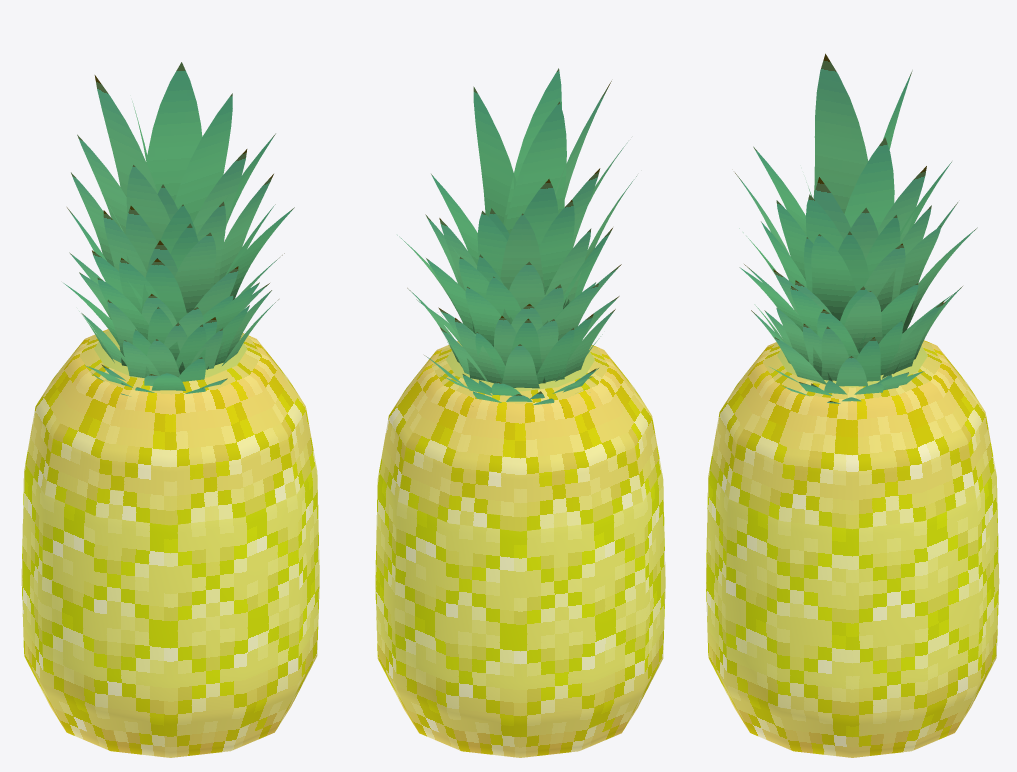
Rendered from whole_pineapple.glb.
3 views of the same model, side by side, from view 1: azimuth 30°, elevation 25°; view 2: azimuth 150°, elevation 25°; view 3: azimuth 270°, elevation 25° (orthographic). The views are drawn at different scales.
Visible parts, largest first — view 1: Circle, Circle.004, Circle.009, Circle.006, Circle.005, Circle.002, Circle.008, Circle.003, Circle.007, Circle.001; view 2: Circle, Circle.004, Circle.002, Circle.009, Circle.006, Circle.008, Circle.005, Circle.003, Circle.007, Circle.001; view 3: Circle, Circle.009, Circle.008, Circle.002, Circle.004, Circle.003, Circle.005, Circle.006, Circle.007, Circle.001.
Part boxes in pixels (x1=…): Circle: x1=21, y1=329, x2=319, y2=757; Circle.004: x1=67, y1=172, x2=275, y2=313; Circle.009: x1=69, y1=207, x2=294, y2=322; Circle.006: x1=94, y1=75, x2=232, y2=222; Circle.005: x1=77, y1=133, x2=275, y2=253; Circle.002: x1=79, y1=290, x2=278, y2=374; Circle.008: x1=132, y1=62, x2=202, y2=201; Circle.003: x1=63, y1=272, x2=269, y2=344; Circle.007: x1=92, y1=339, x2=205, y2=385; Circle.001: x1=85, y1=365, x2=227, y2=396; Circle: x1=375, y1=341, x2=665, y2=757; Circle.004: x1=425, y1=176, x2=636, y2=308; Circle.002: x1=407, y1=288, x2=615, y2=383; Circle.009: x1=397, y1=235, x2=621, y2=333; Circle.006: x1=488, y1=81, x2=611, y2=240; Circle.008: x1=473, y1=68, x2=561, y2=225; Circle.005: x1=431, y1=142, x2=627, y2=278; Circle.003: x1=416, y1=283, x2=619, y2=364; Circle.007: x1=424, y1=344, x2=598, y2=399; Circle.001: x1=441, y1=375, x2=592, y2=407; Circle: x1=706, y1=340, x2=999, y2=757; Circle.009: x1=739, y1=226, x2=977, y2=333; Circle.008: x1=813, y1=53, x2=912, y2=213; Circle.002: x1=751, y1=286, x2=962, y2=381; Circle.004: x1=735, y1=173, x2=957, y2=330; Circle.003: x1=739, y1=267, x2=954, y2=359; Circle.005: x1=753, y1=146, x2=951, y2=259; Circle.006: x1=806, y1=137, x2=894, y2=239; Circle.007: x1=774, y1=337, x2=892, y2=394; Circle.001: x1=770, y1=367, x2=924, y2=403.
Size of the model in its own units: 2.6 by 6.34 by 2.55.
1 material, 1 textured.
